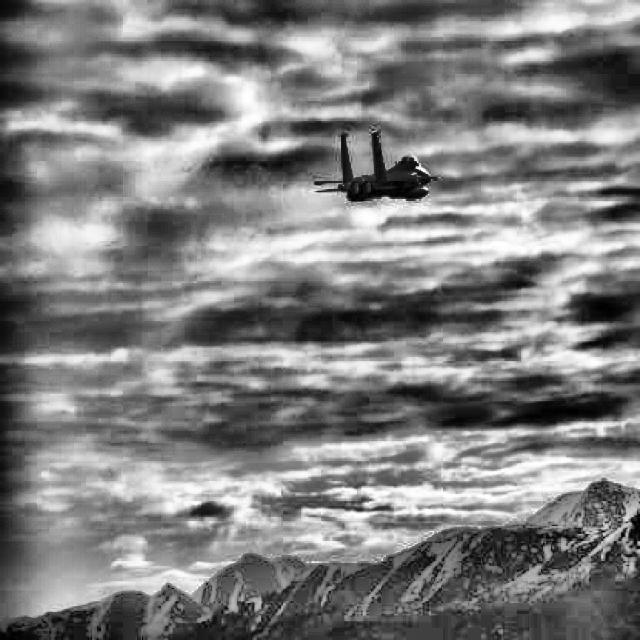F15: (314, 132, 438, 202)
